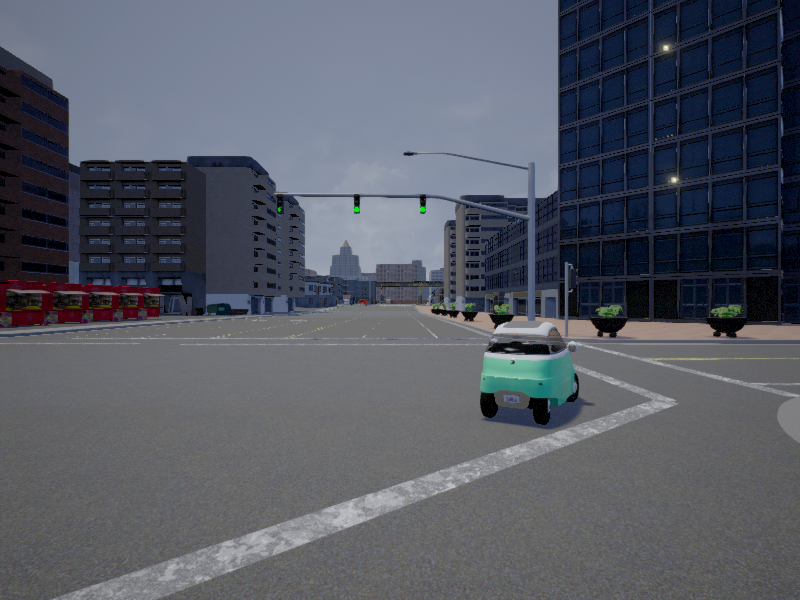Benign: (481, 320, 580, 427)
